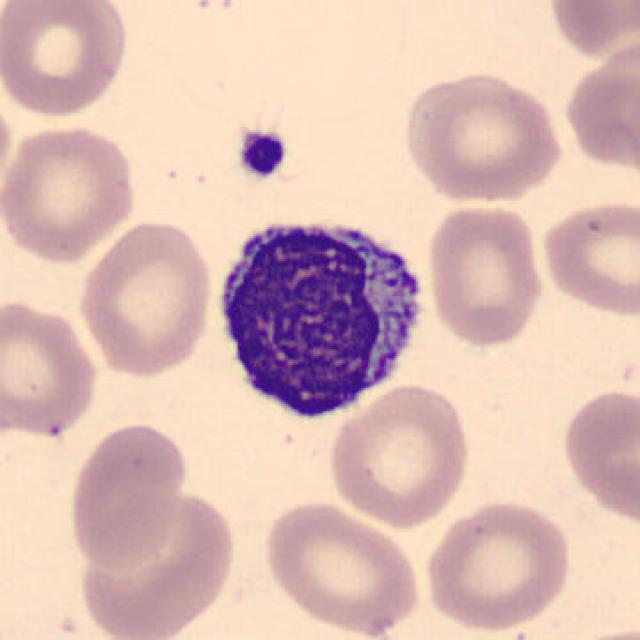Lymphocyte: (208, 206, 432, 427)
Platelets: (233, 127, 291, 182)
RBC: (71, 485, 240, 640), (75, 217, 217, 379), (398, 68, 567, 204), (258, 499, 425, 636), (324, 381, 474, 529), (420, 495, 576, 633), (0, 119, 140, 266), (64, 420, 190, 571), (423, 201, 548, 349), (0, 3, 133, 123), (0, 294, 101, 442), (537, 196, 638, 319), (556, 384, 638, 528), (558, 36, 638, 176), (544, 0, 638, 62)
